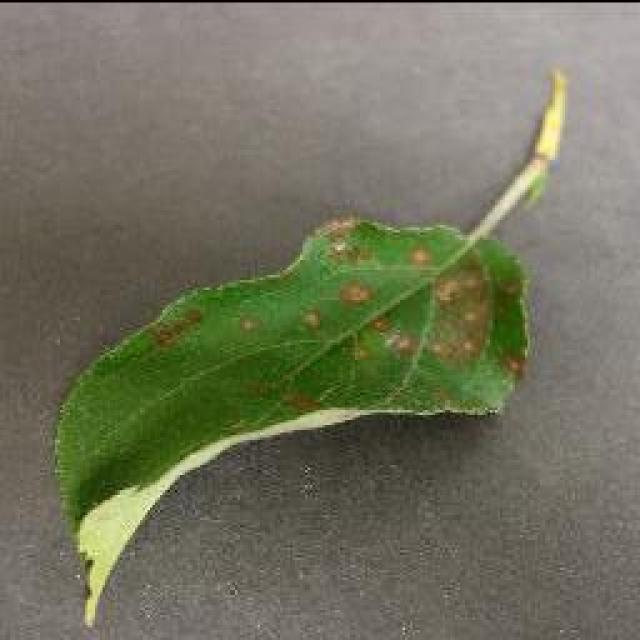apple scab disease: (50, 68, 570, 630)
